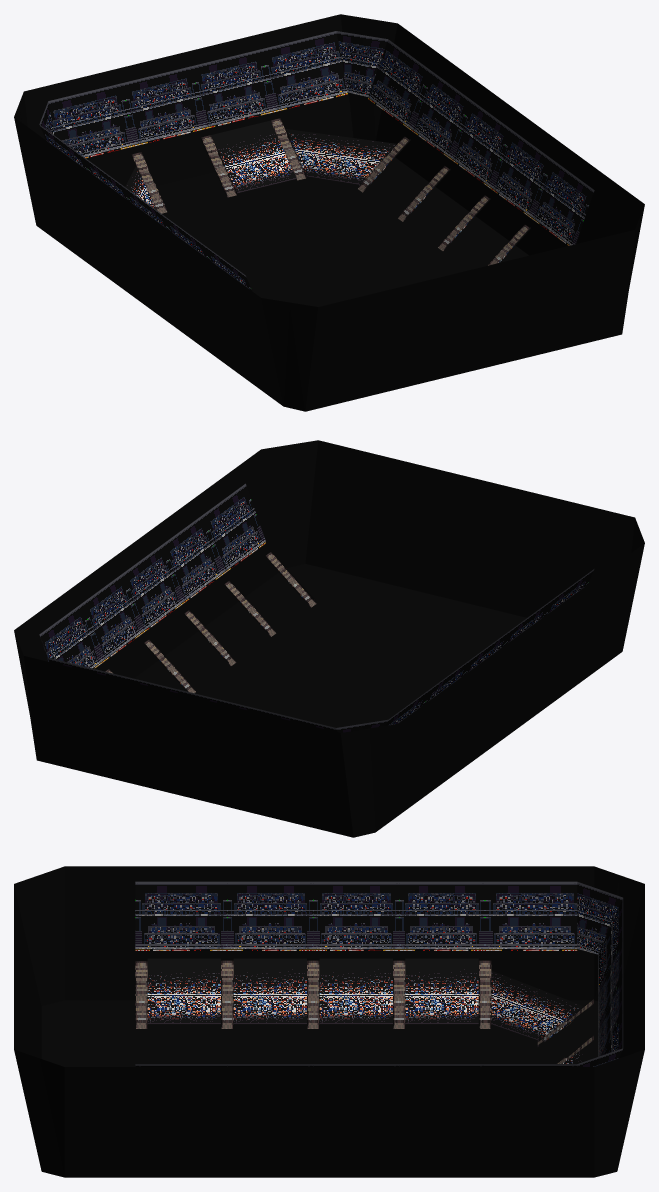
The model's file is nitro_outer.glb.
The picture shows the model from 3 angles, top to bottom: view 1: azimuth 30°, elevation 25°; view 2: azimuth 150°, elevation 25°; view 3: azimuth 270°, elevation 25°; orthographic projection. The views are drawn at different scales.
Parts seen in each view (by area): view 1: outer_walls, crowd; view 2: outer_walls, crowd; view 3: outer_walls, crowd.
Part boxes in pixels (<box>): outer_walls: <box>14,14,644,411</box>; crowd: <box>39,31,594,291</box>; outer_walls: <box>14,440,644,837</box>; crowd: <box>39,483,594,732</box>; outer_walls: <box>14,866,644,1177</box>; crowd: <box>135,881,623,1066</box>.
Size of the model in its own units: 54.38 by 15.45 by 72.27.
4 materials, 4 textured.
